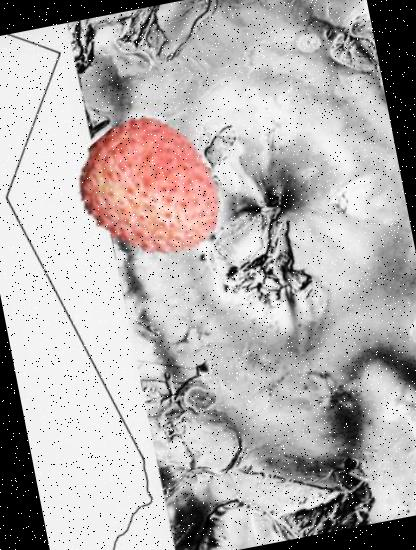Lychee: (64, 104, 239, 279)
